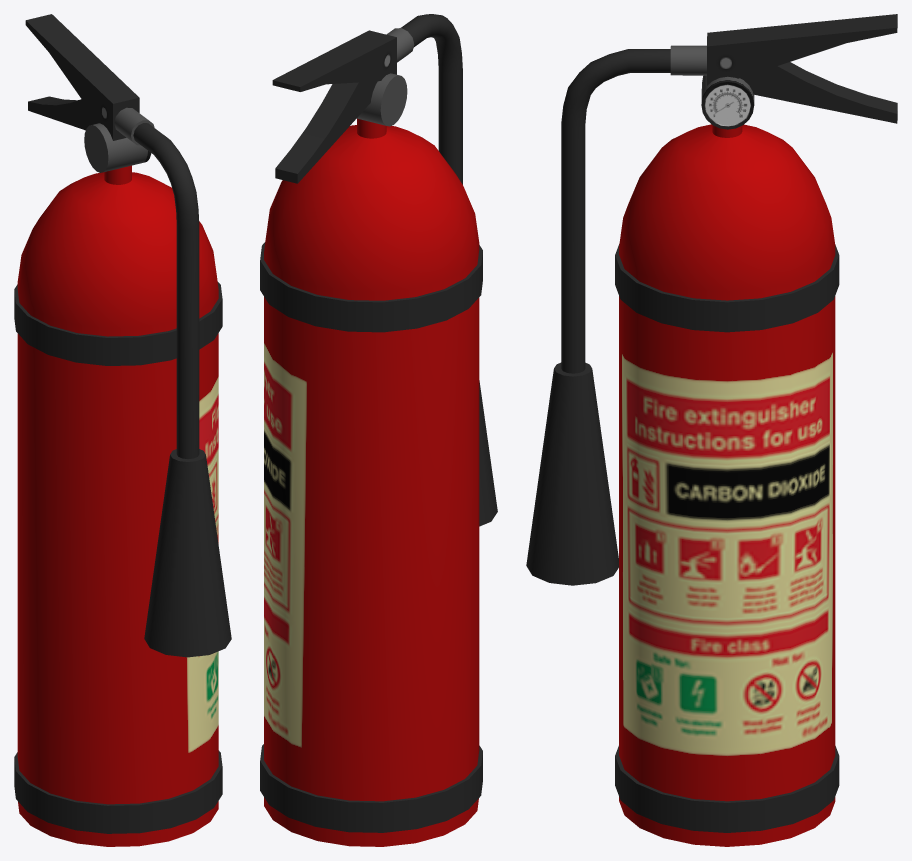
The model's file is fire extinguisher.FBX.
The picture shows the model from 3 angles, left to right: view 1: azimuth 30°, elevation 25°; view 2: azimuth 150°, elevation 25°; view 3: azimuth 270°, elevation 25°; orthographic projection. The views are drawn at different scales.
Visible parts, largest first — view 1: fire extinguisher; view 2: fire extinguisher; view 3: fire extinguisher.
Boxes of the visible parts, box(x1,y1,x2,y2) form: fire extinguisher: box(14, 14, 231, 846); fire extinguisher: box(260, 14, 497, 846); fire extinguisher: box(526, 14, 897, 846).
Bounding box in the file's own units: 8.29 × 13.73 × 31.85.
